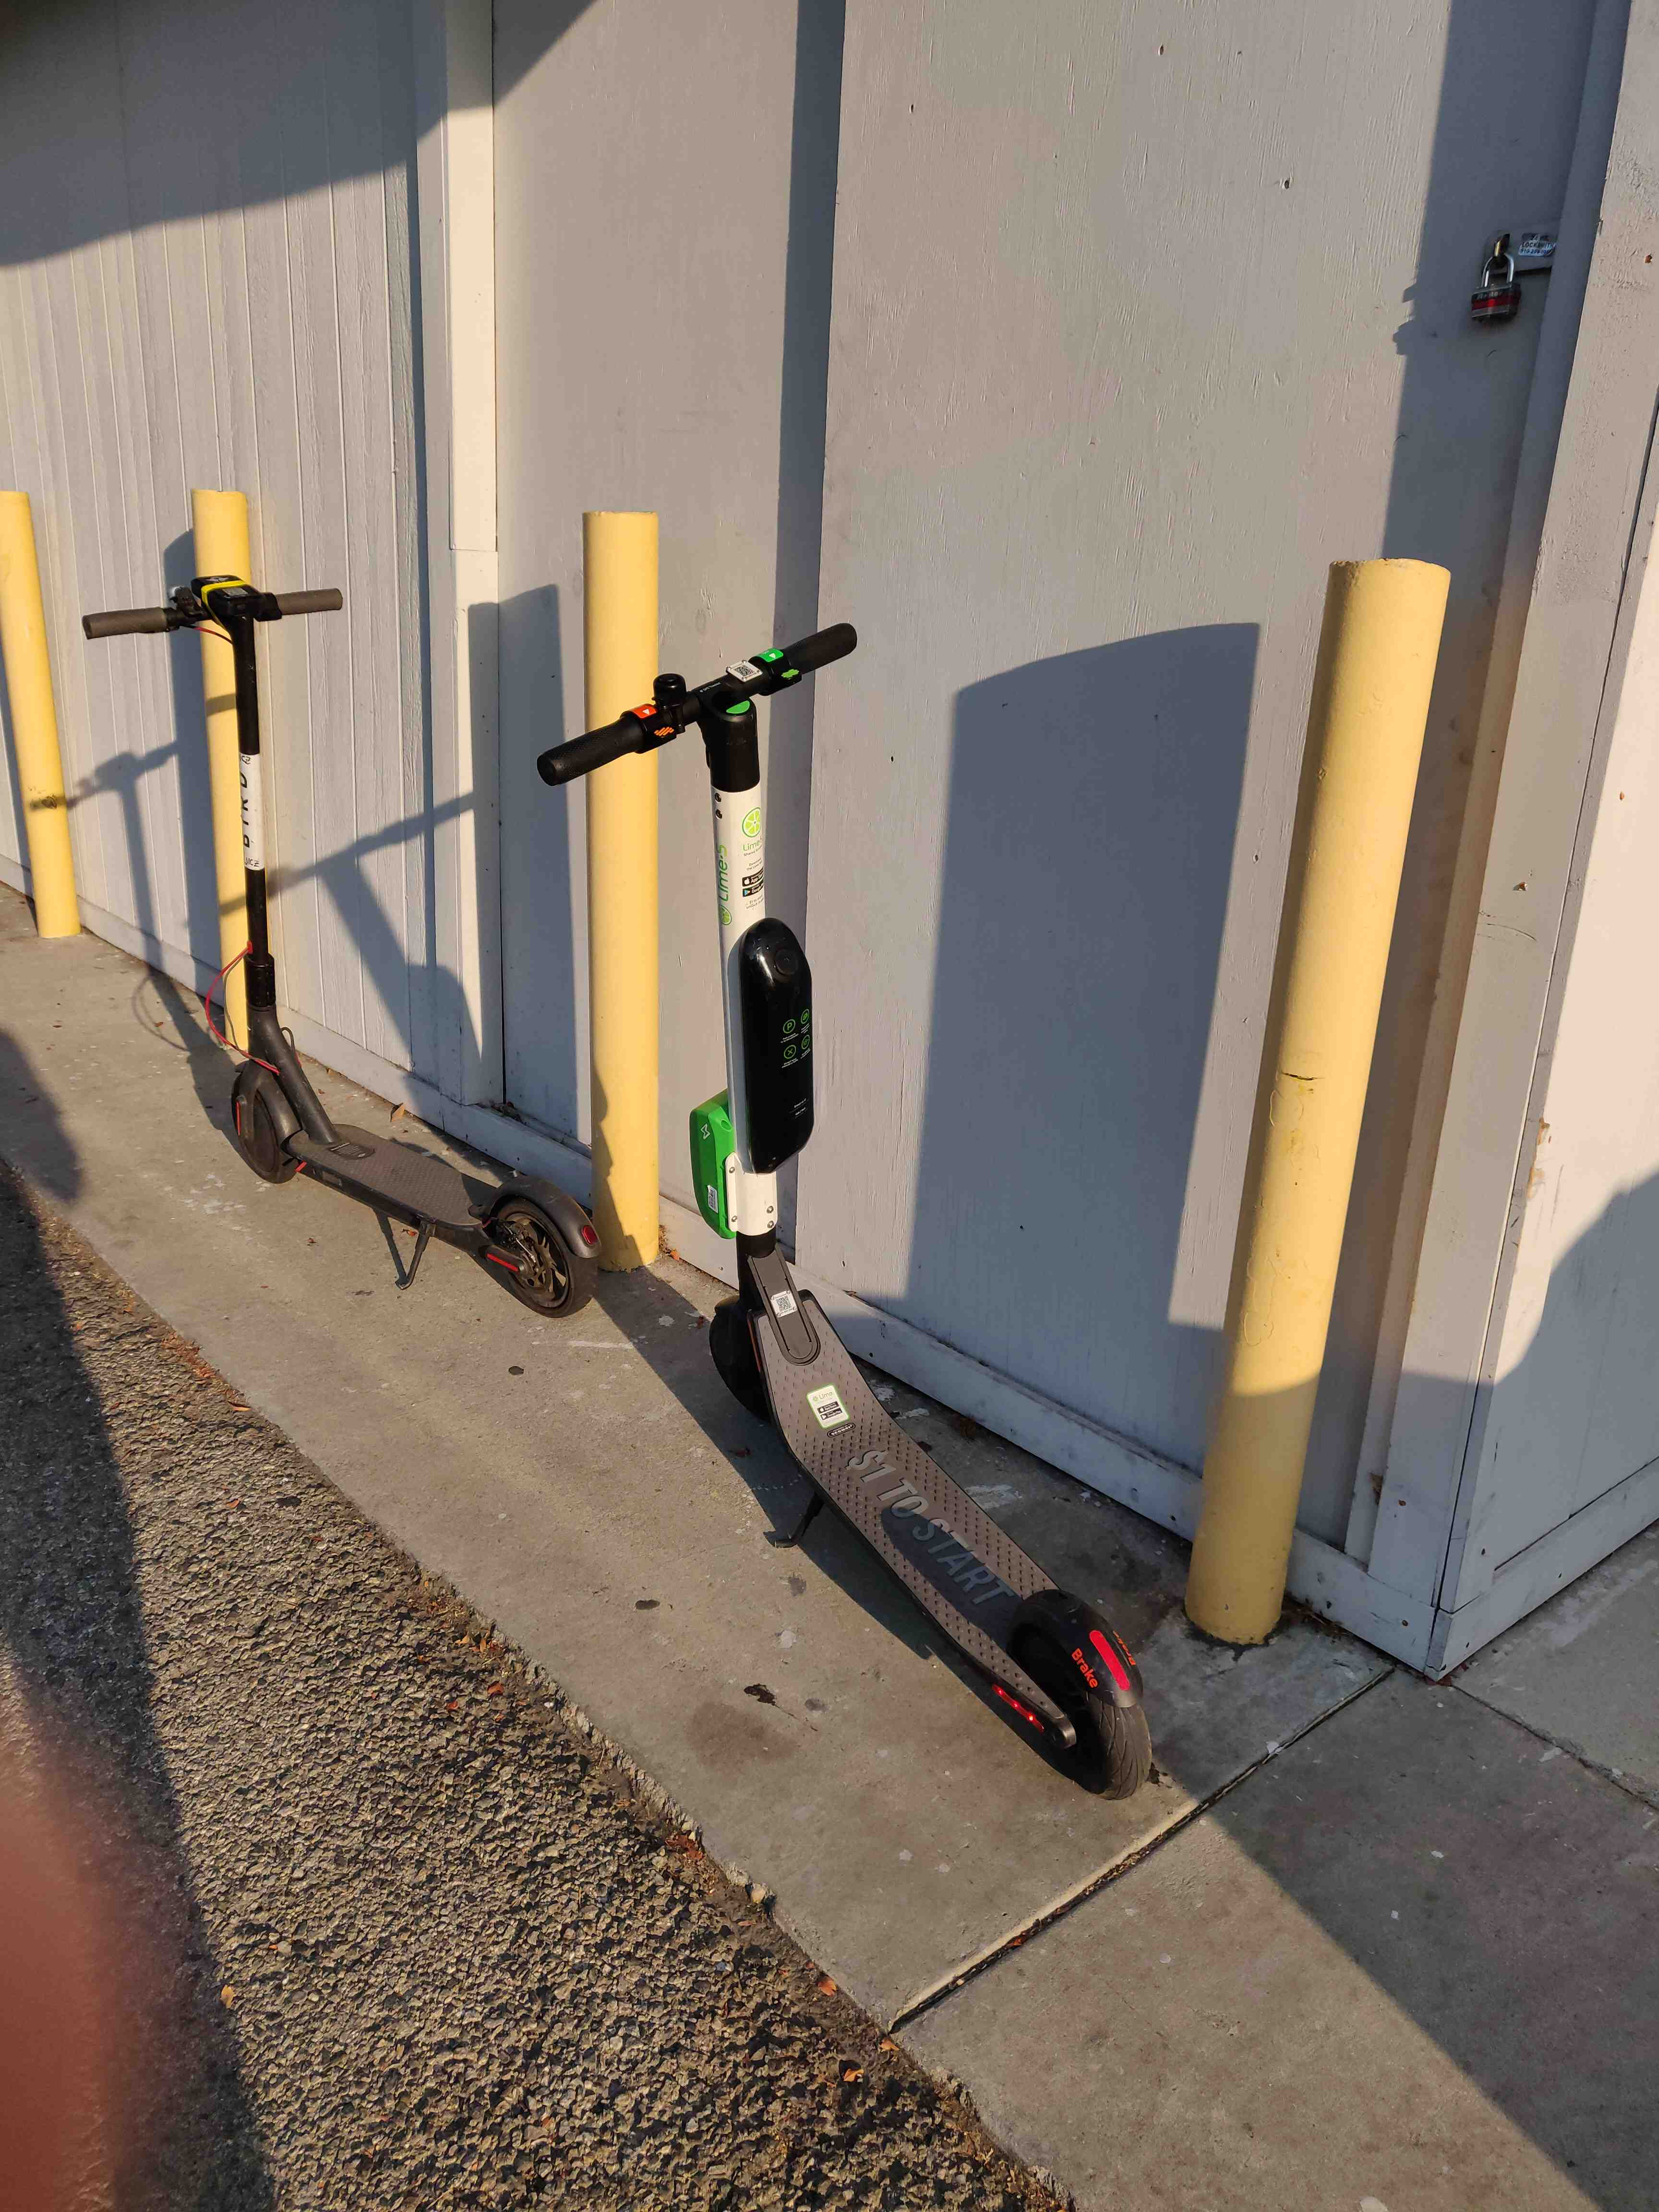scooter: (491, 587, 1152, 1794)
